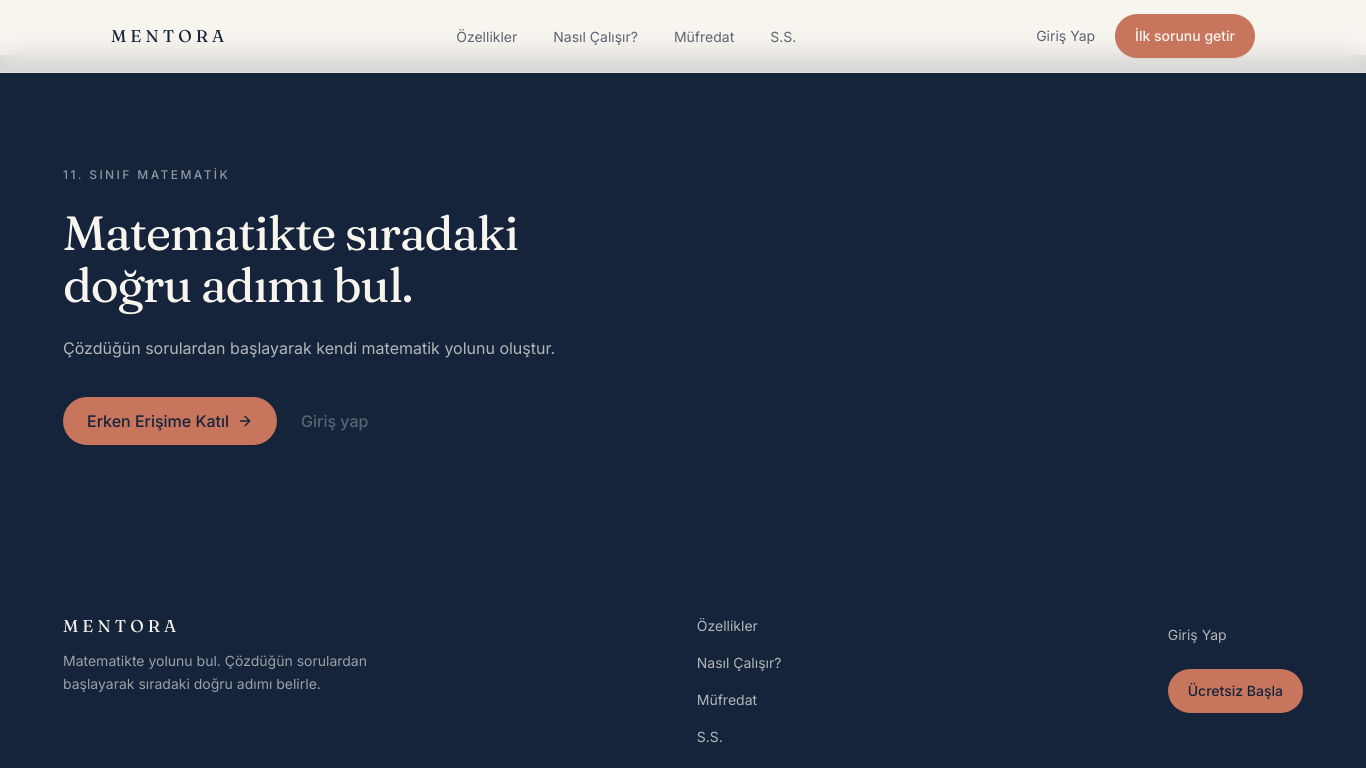
Scenario: App › opens the sign-up experience from the landing page early-access CTA
(page scrolled)
Click the button "Erken Erişime Katıl". click: (170, 421)
box: [63, 397, 277, 445]
(page scrolled)
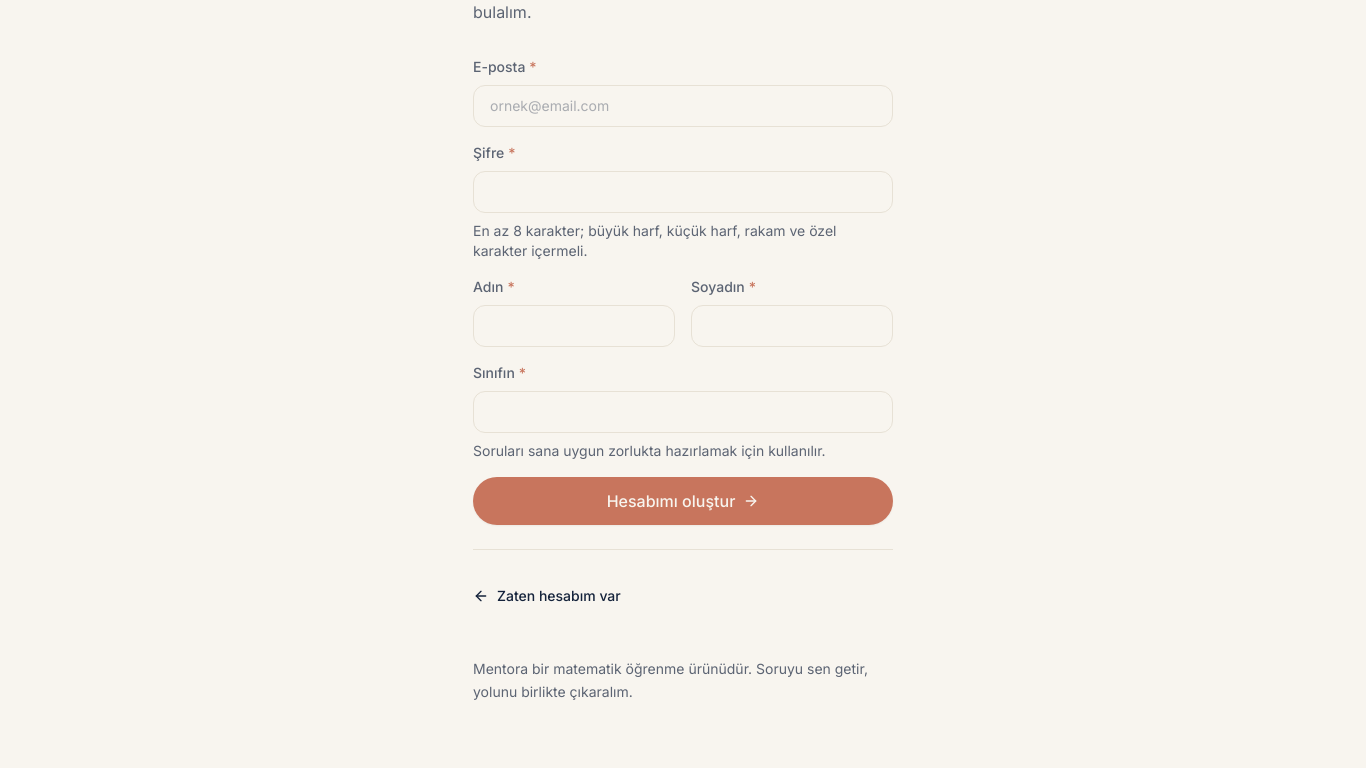
Now the number field labelled "Sınıfın*" is shown, box [473, 391, 893, 433]
